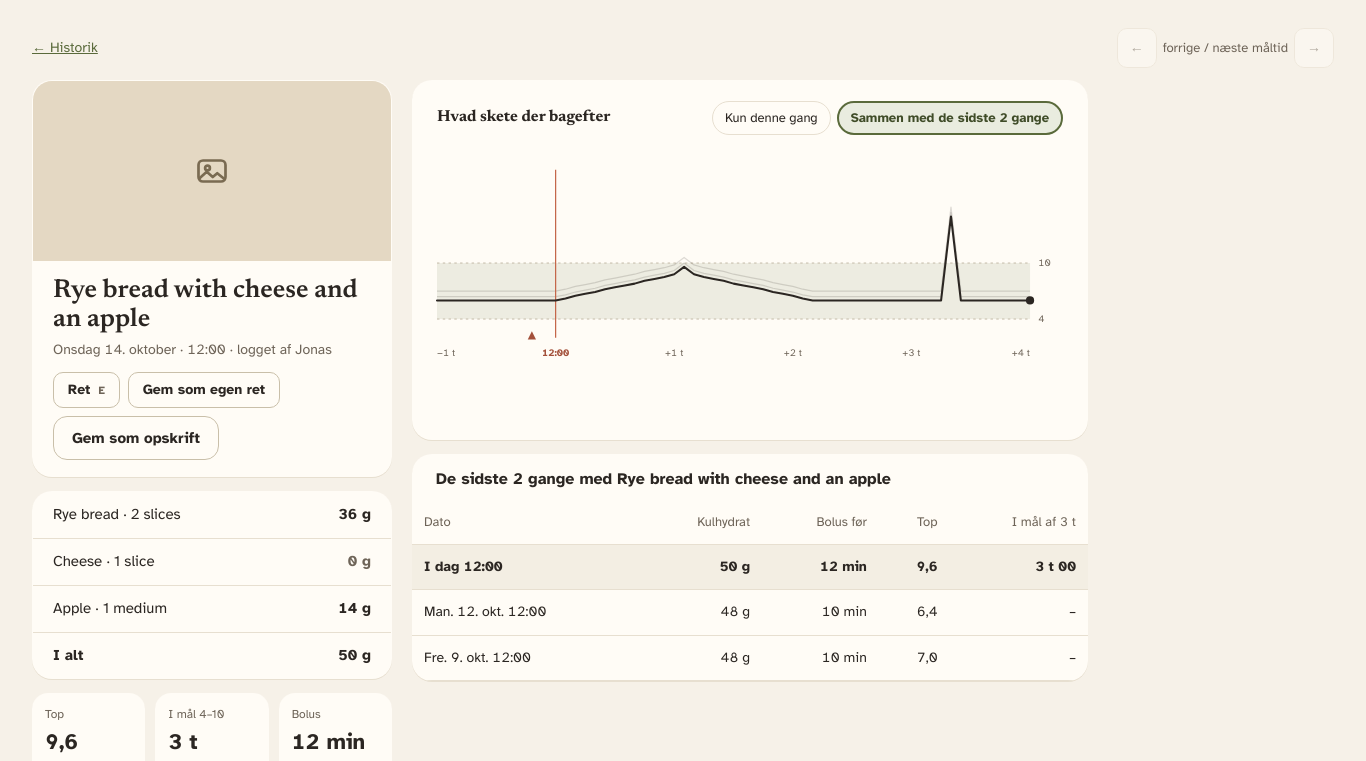
Scenario: compare and navigation › shows the current row first with clock and peak age, toggles table and opens previous rows
expect the row "I dag 12:00 50 g 12 min 9,6 3 t 00" is shown: met, box [412,544,1088,590]
expect the picture named "Top 9,6 kl. 13:05" is shown: met, box [916,558,938,575]
Press Enter in the row "Man. 12. okt. 12:00 48 g 10 min 6,4 –", box [412,590,1088,635]
Click the radio button labelled "Kun denne gang". click: (771, 118)
box: [712,101,831,135]
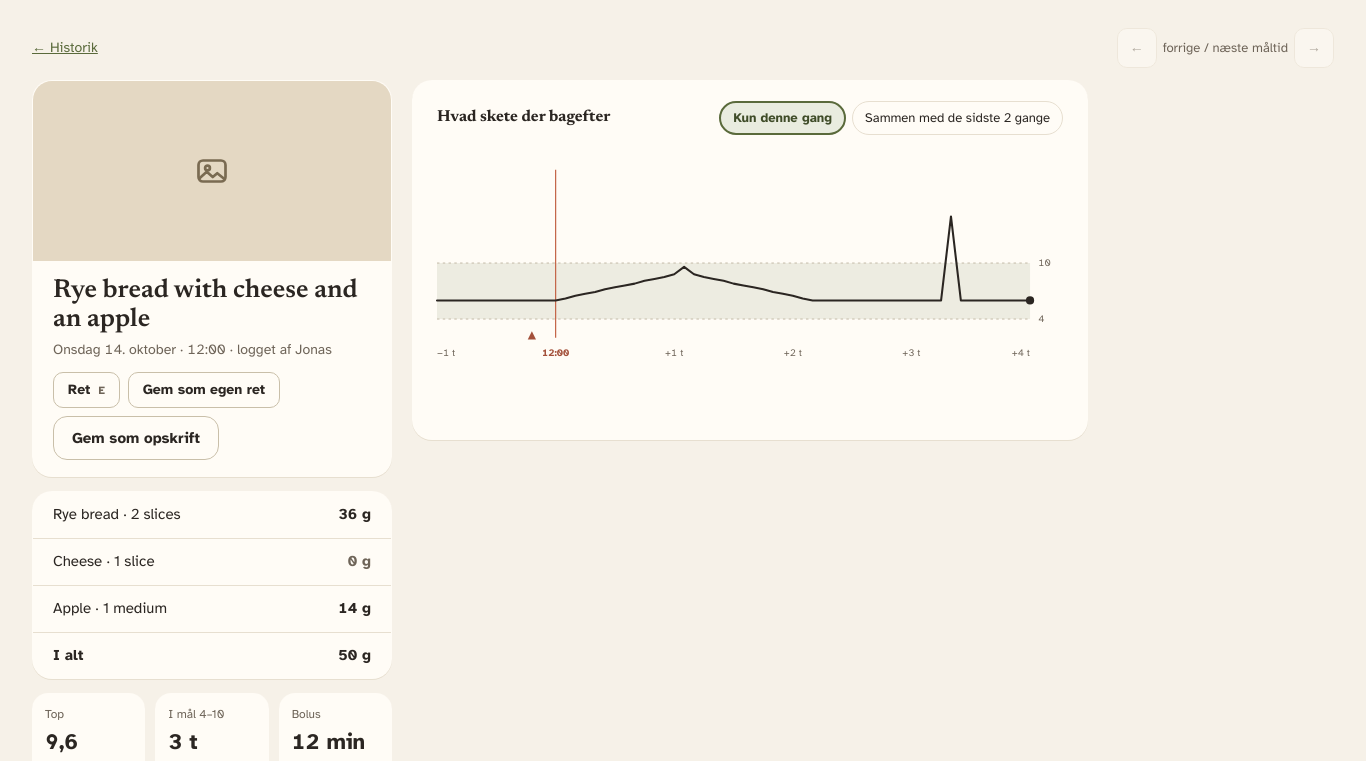
expect the table is gone: met
Click the radio button labelled "Sammen med de sidste 2 gange". click: (958, 118)
box: [852,101,1063,135]
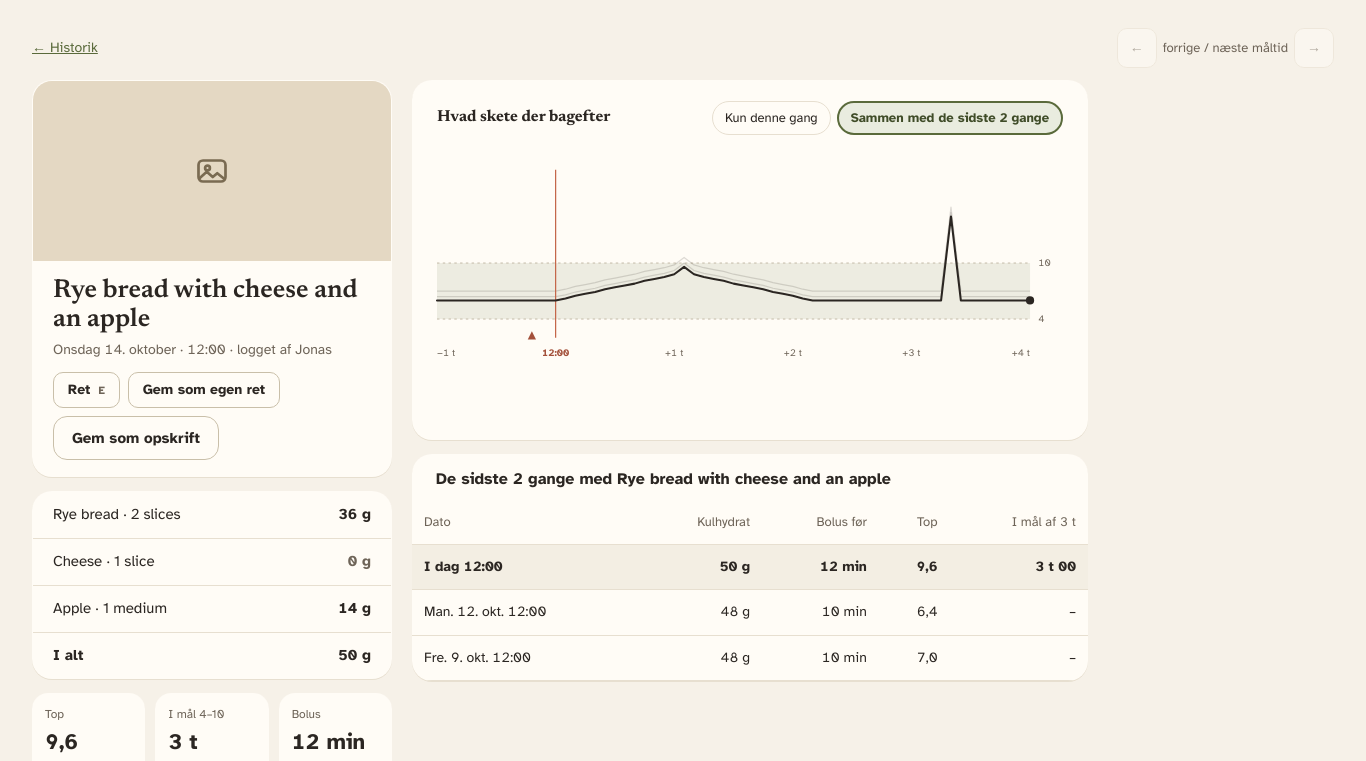
expect the table is shown: met, box [412,454,1088,681]
